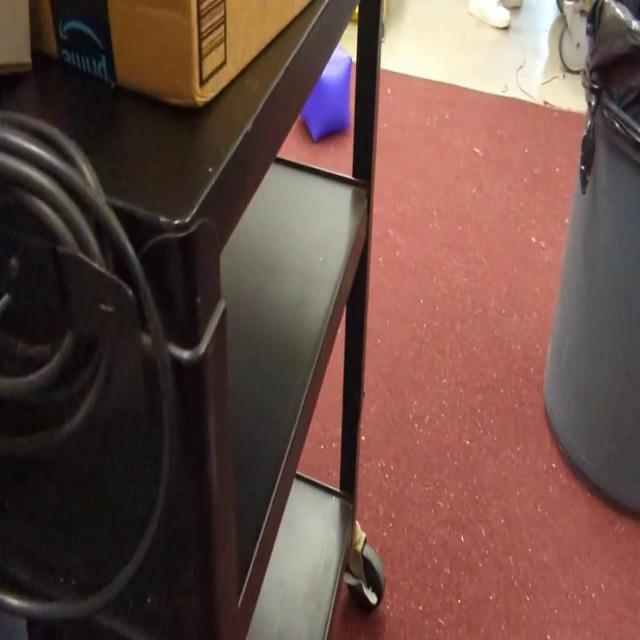frc_cube: (298, 36, 350, 142)
